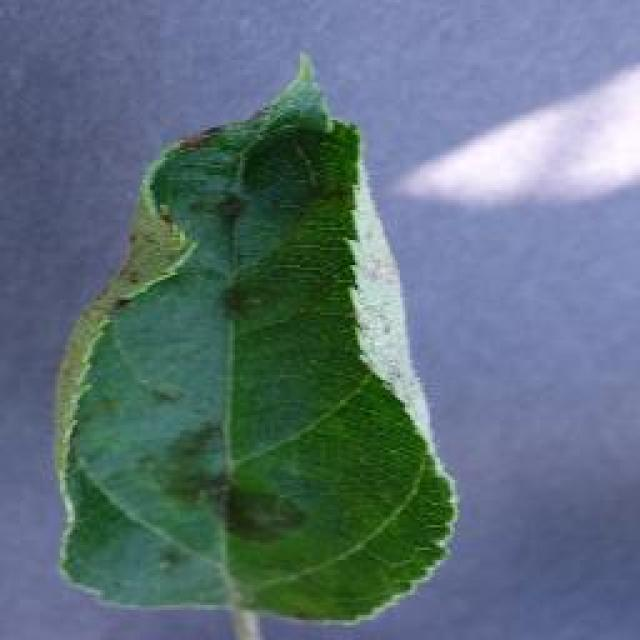apple scab disease: (50, 50, 460, 638)
